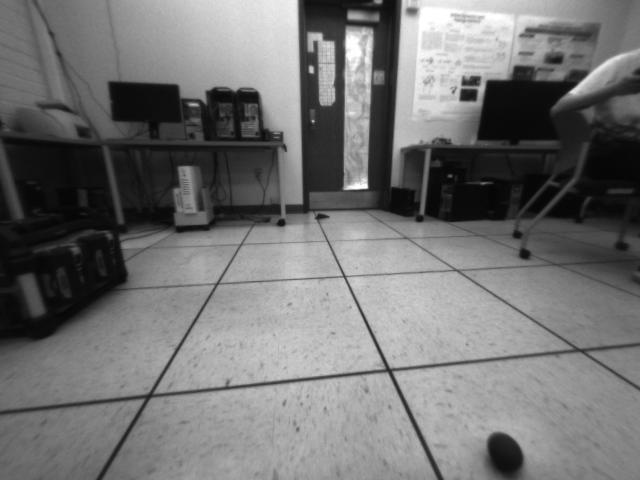dogtoy: (476, 426, 533, 480)
